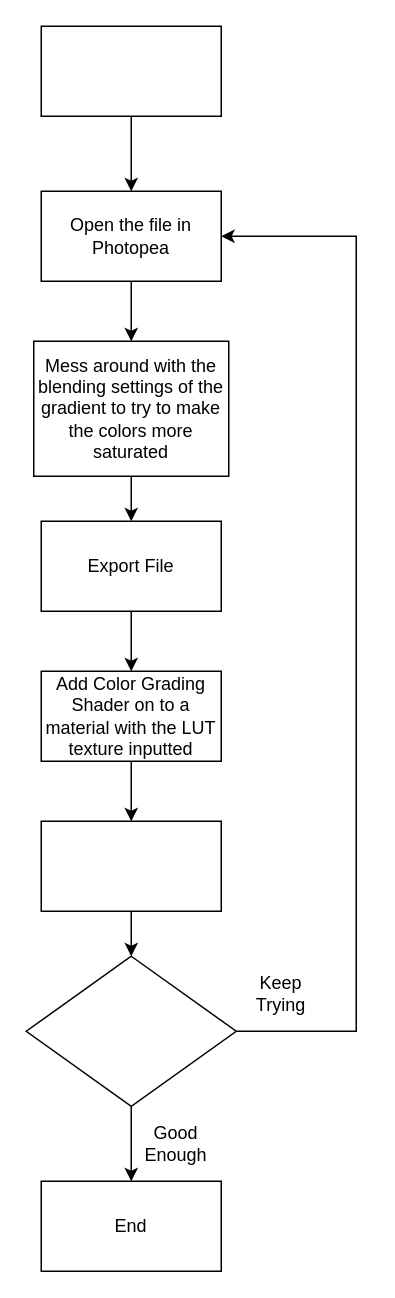
Some shapes in this 395 by 1298 pixel diagram are drawn without their labels. Here are the shapes that lost their labels. From the top down, the centre of each, then its label:
At (130,70): "Get Default LUT".
At (130,865): "Put the Color grading script on the camera".
At (130,1030): "Decide if I want to change it".
